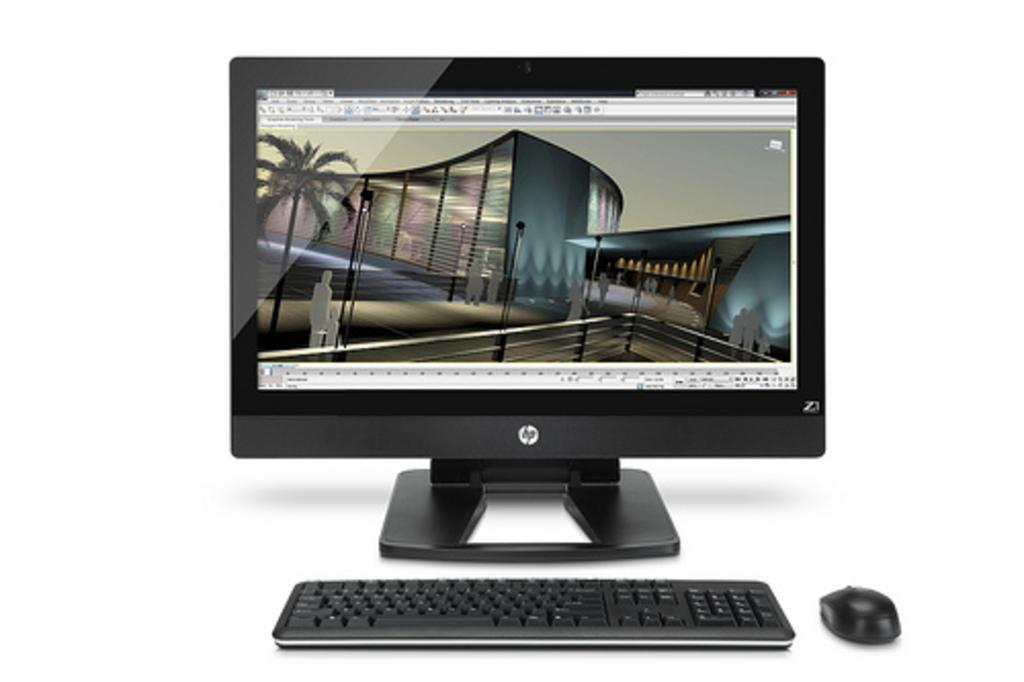Computer-mouse: (817, 580, 901, 641)
